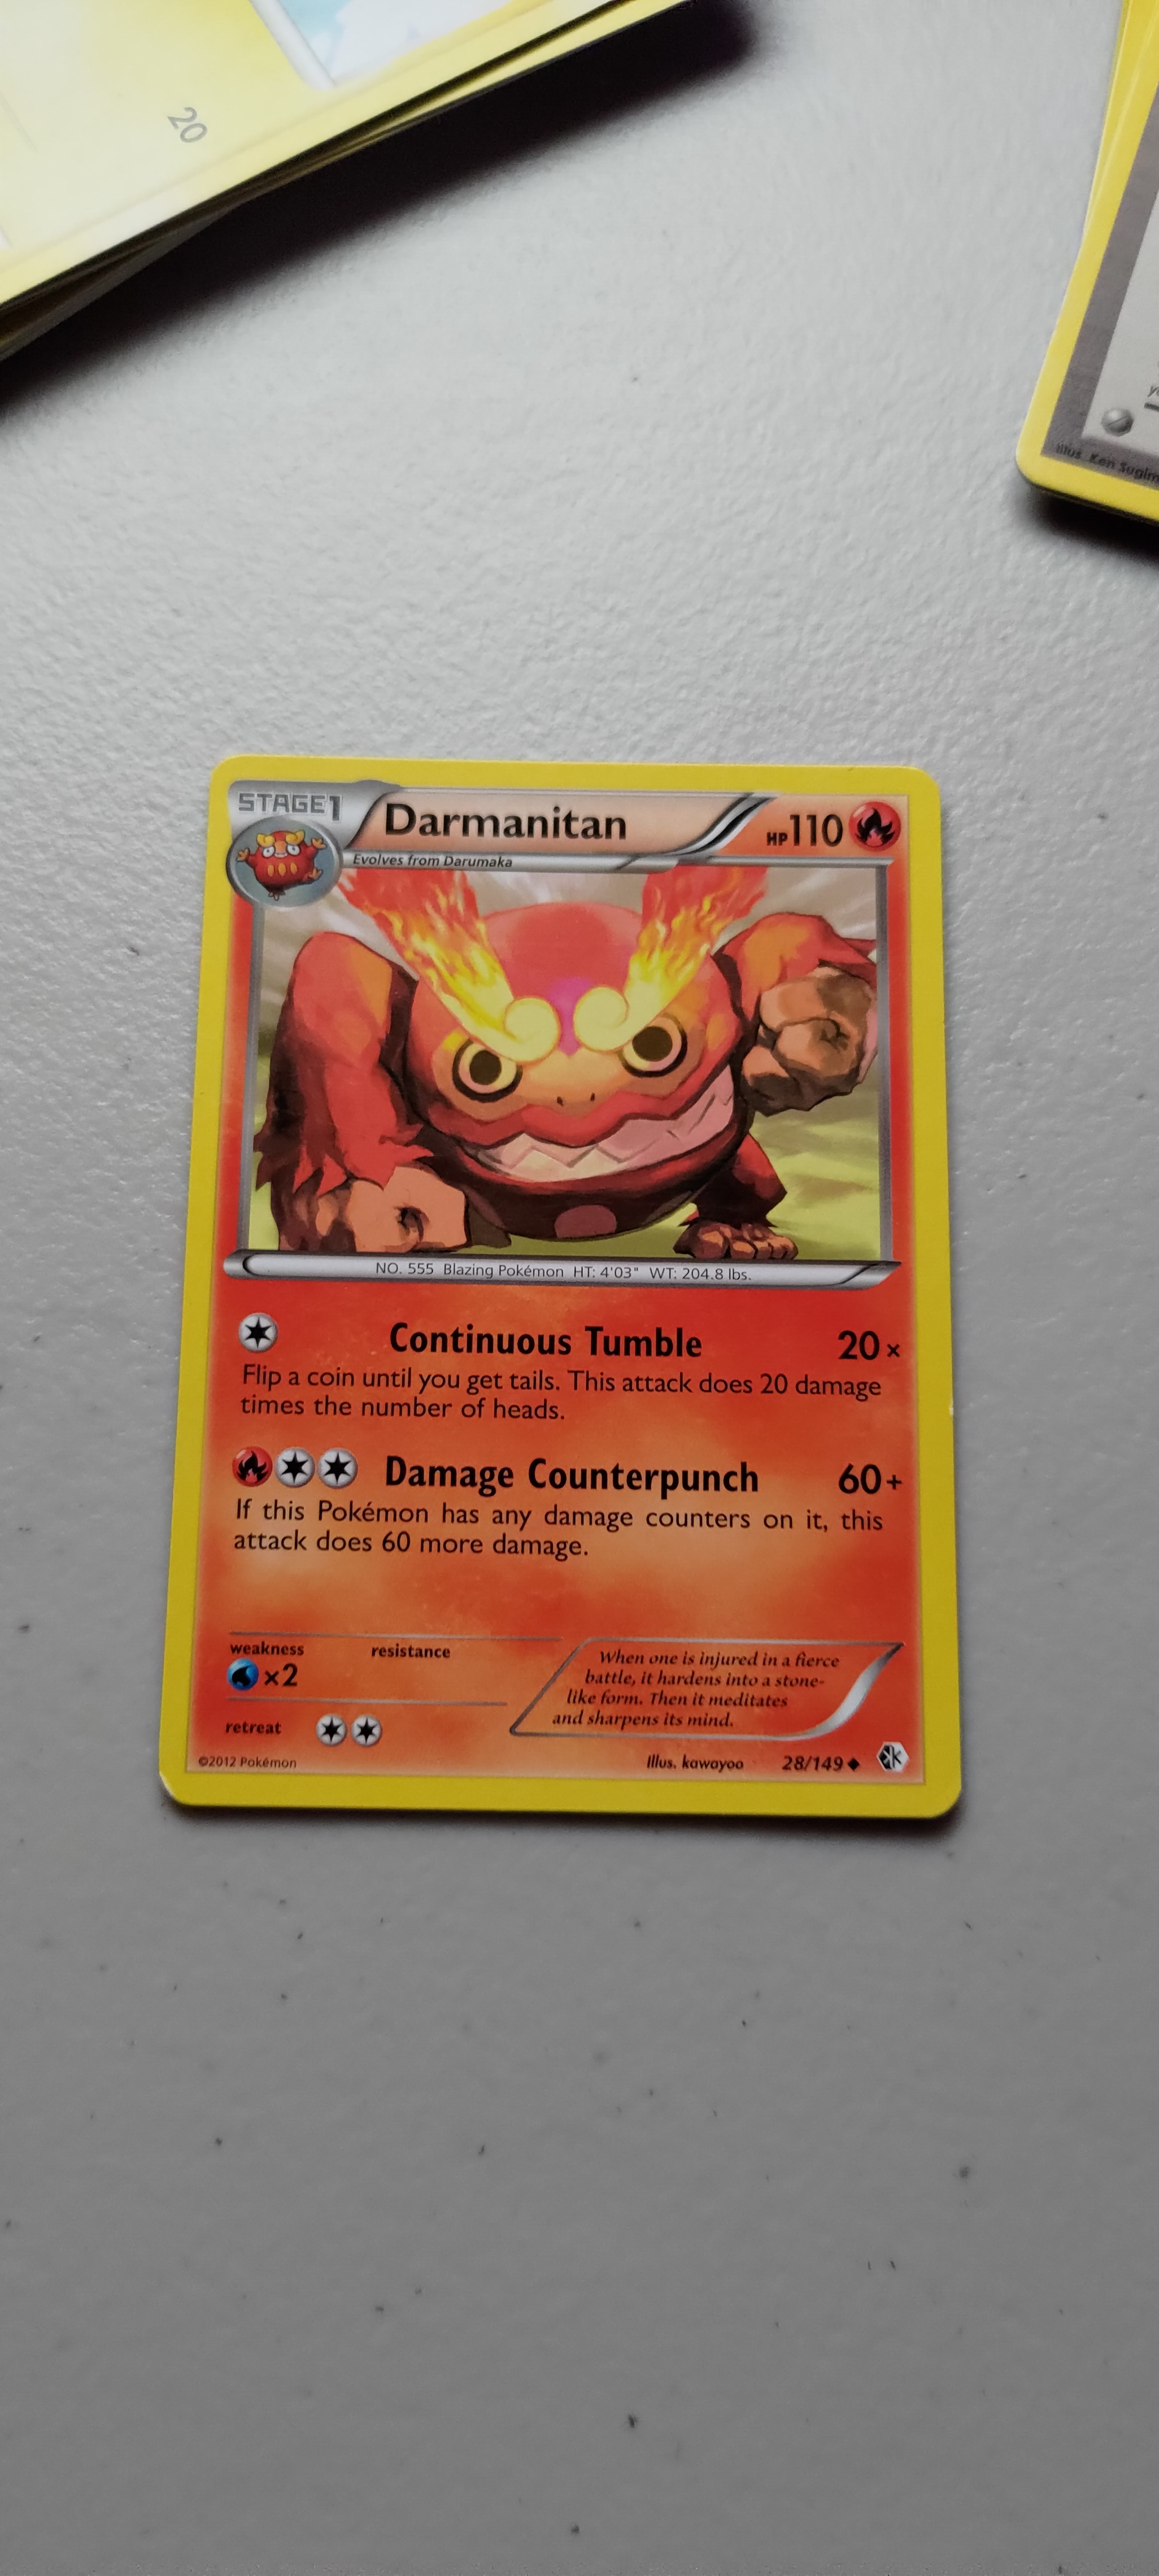pokemon_card: (158, 741, 967, 1842)
